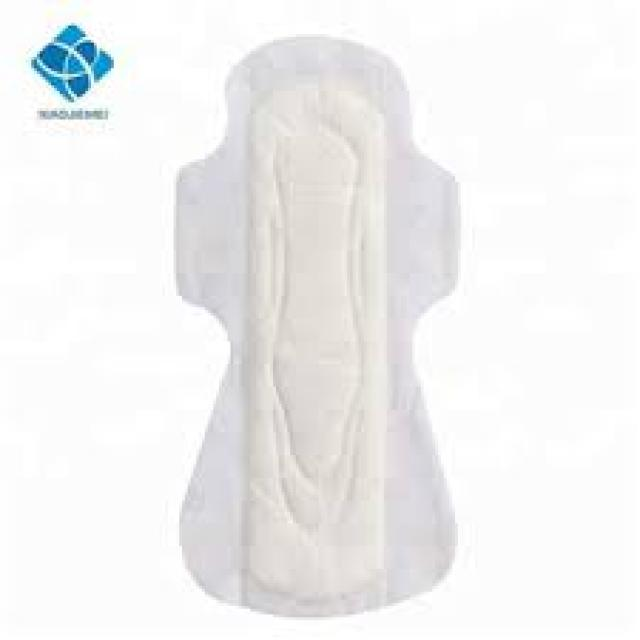napkin: (178, 38, 459, 614)
